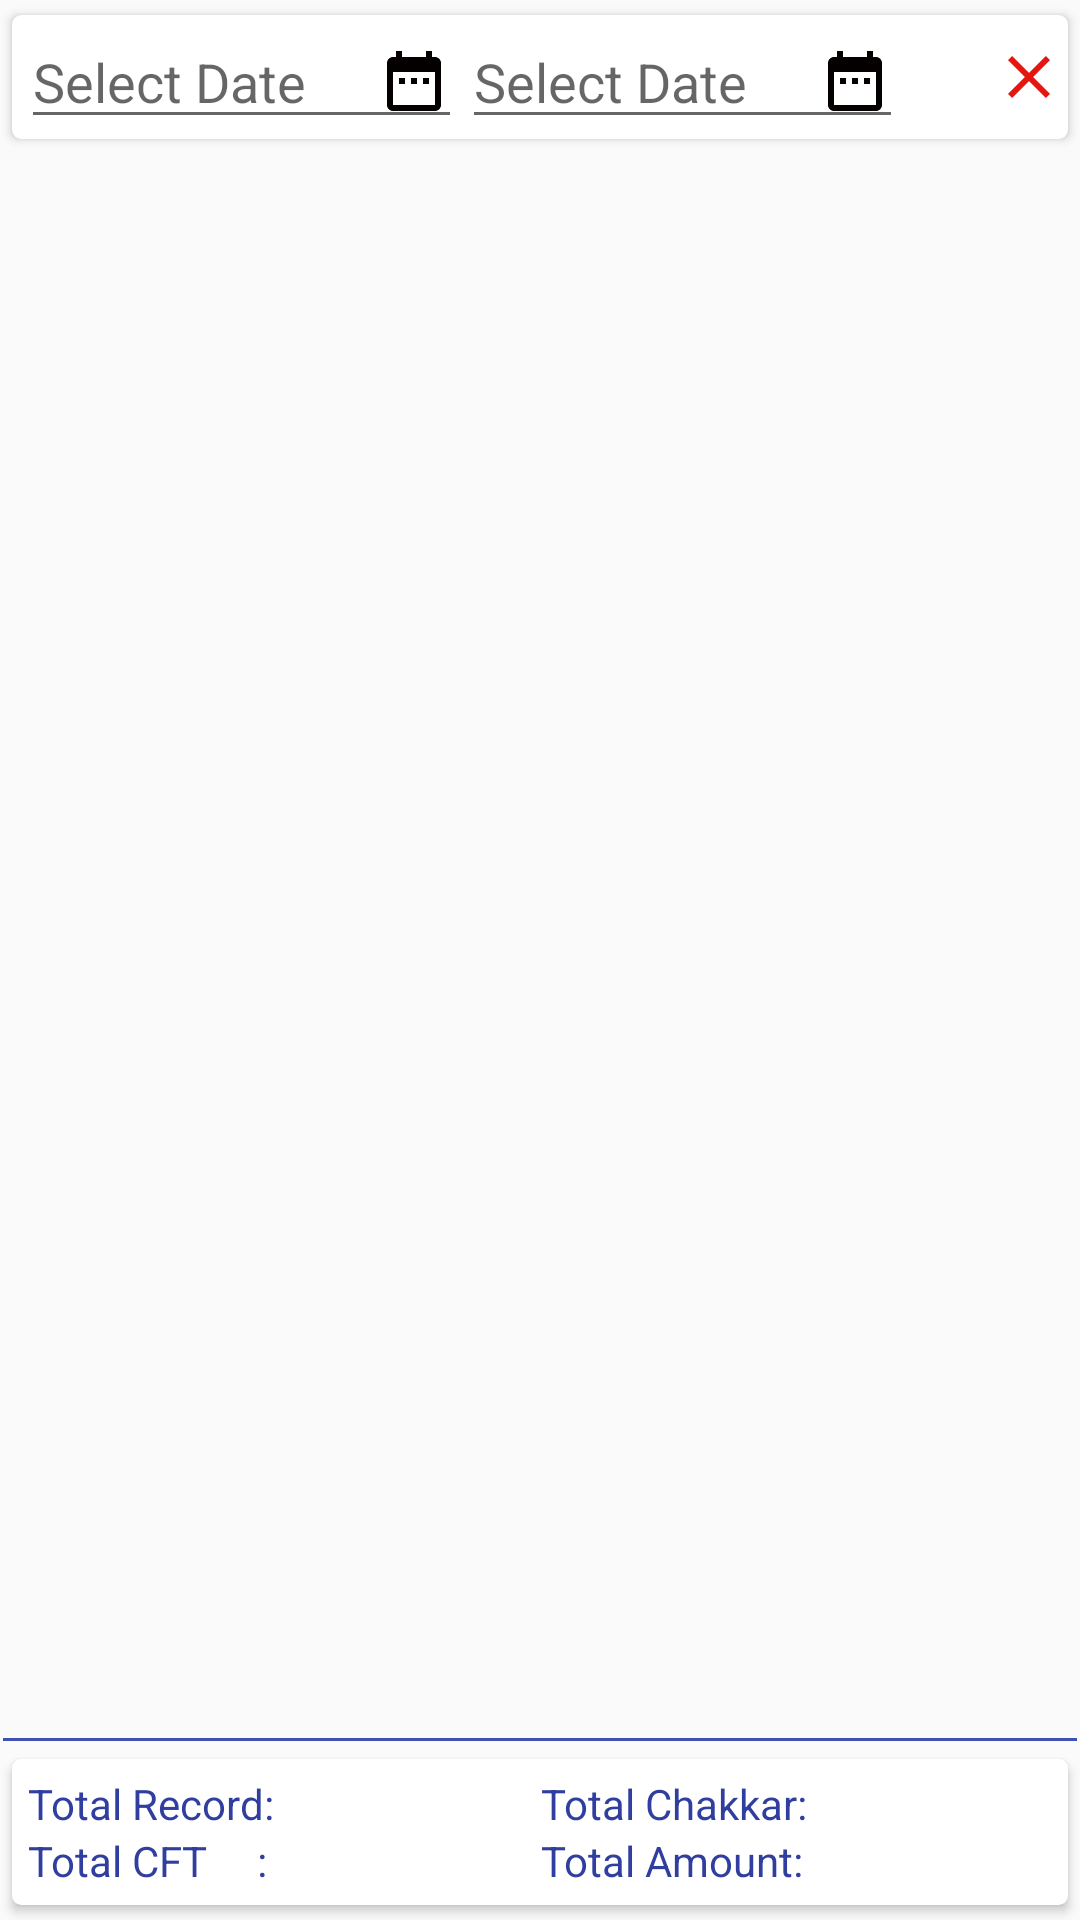

Screen size 1080w x 1920h. Icon name, then its box in pixels as (x1, y1, x2, y2):
clear: (1008, 56, 1050, 98)
